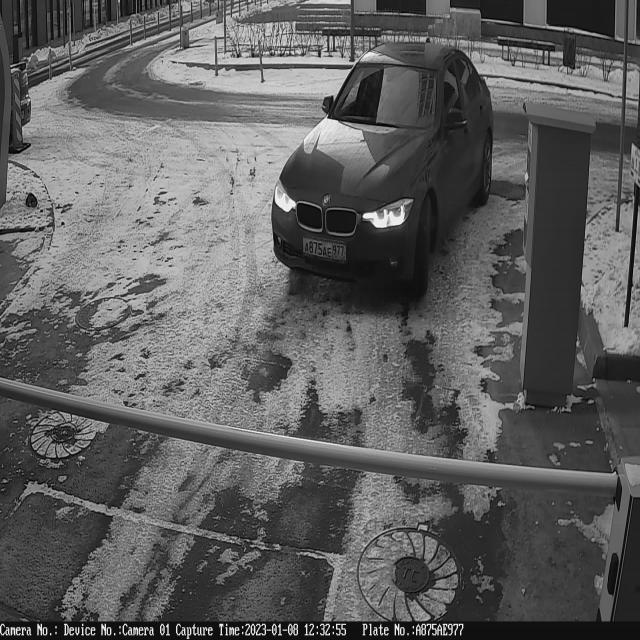car-plate-numbers: (301, 231, 348, 265)
